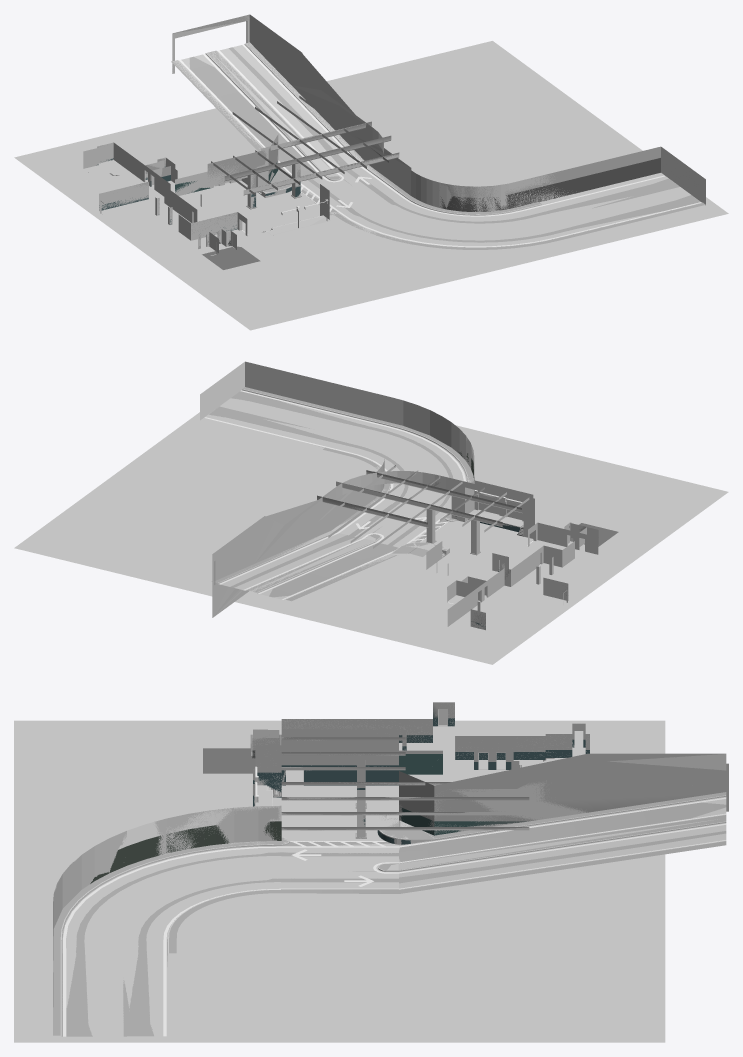
Rendered from garage.glb.
3 views of the same model, one above another, from view 1: azimuth 30°, elevation 25°; view 2: azimuth 150°, elevation 25°; view 3: azimuth 270°, elevation 25° (orthographic). The views are drawn at different scales.
Parts seen in each view (by area): view 1: dm_concrete, c_mesh, g_road, g_vtxc, dm_brick, g_lines, g_g; view 2: dm_concrete, c_mesh, g_road, g_lines, g_vtxc, dm_brick, g_g, c_box_08, c_box_09; view 3: dm_concrete, c_mesh, g_vtxc, g_road, g_lines, dm_brick.
Part boxes in pixels (x1,y1,x2,y2): dm_concrete: (14,15,728,328); c_mesh: (83,15,722,330); g_road: (88,42,705,269); g_vtxc: (96,14,660,248); dm_brick: (96,14,576,249); g_lines: (179,44,701,247); g_g: (145,147,705,255); dm_concrete: (14,372,728,664); c_mesh: (121,361,677,660); g_road: (209,387,618,601); g_lines: (204,390,466,599); g_vtxc: (214,382,586,628); dm_brick: (266,376,586,628); g_g: (200,362,579,604); c_box_08: (336,483,502,526); c_box_09: (366,472,522,513); dm_concrete: (14,703,726,1042); c_mesh: (14,709,726,1042); g_vtxc: (55,702,728,890); g_road: (53,748,726,1036); g_lines: (63,797,726,1036); dm_brick: (53,703,589,935).
Bounding box in the file's own units: 86.96 × 11.05 × 80.85.
